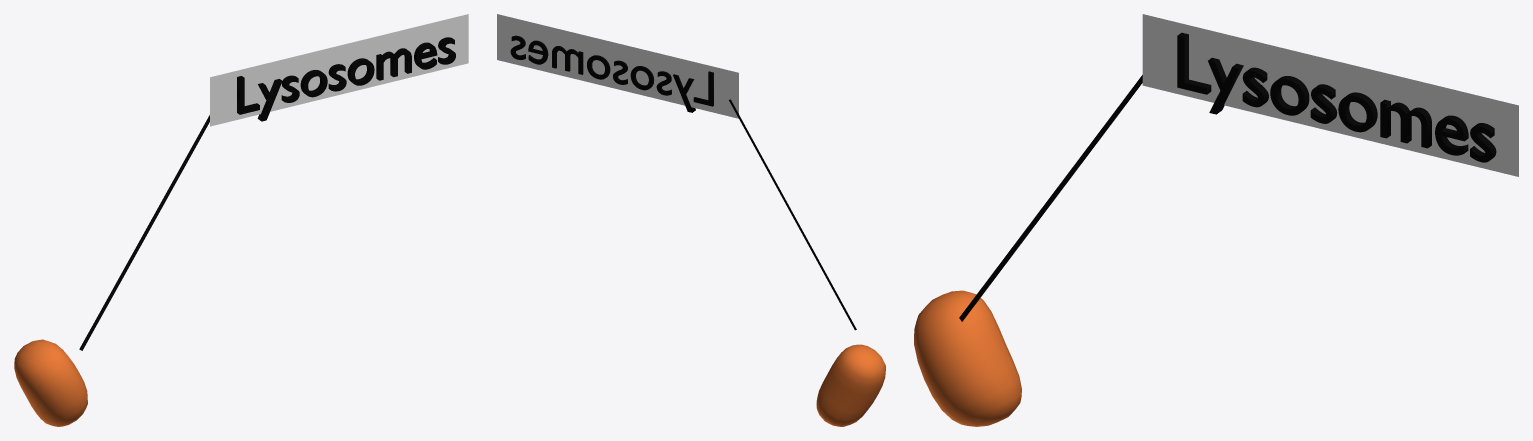
The model's file is lysosomes.gltf.
3 renders of one model, left to right at view 1: azimuth 30°, elevation 25°; view 2: azimuth 150°, elevation 25°; view 3: azimuth 330°, elevation 25°, orthographic. The views are drawn at different scales.
Parts seen in each view (by area): view 1: Plane.020, Piedra_Naranja, Text.020, Plane.021; view 2: Plane.020, Piedra_Naranja, Text.020, Plane.021; view 3: Plane.020, Piedra_Naranja, Text.020, Plane.021.
Part boxes in pixels (<box>): Plane.020: <box>210,14,468,126</box>; Piedra_Naranja: <box>14,339,87,426</box>; Text.020: <box>237,37,455,121</box>; Plane.021: <box>79,115,209,350</box>; Plane.020: <box>497,14,738,118</box>; Piedra_Naranja: <box>816,344,885,426</box>; Text.020: <box>510,35,713,112</box>; Plane.021: <box>729,99,856,330</box>; Plane.020: <box>1142,14,1518,176</box>; Piedra_Naranja: <box>914,290,1021,426</box>; Text.020: <box>1177,32,1496,162</box>; Plane.021: <box>959,75,1142,321</box>.
Bounding box in the file's own units: 2.22 × 1.62 × 0.3256.
